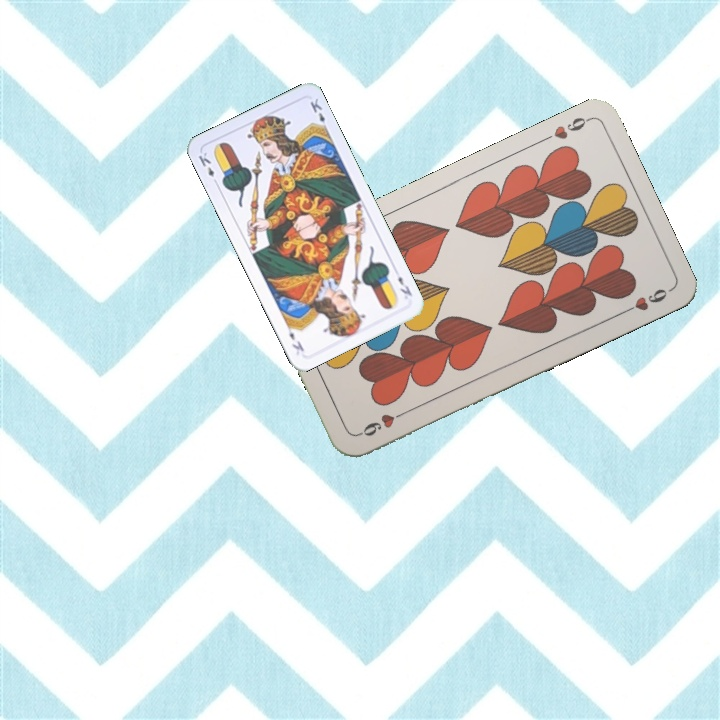EK: (194, 148, 221, 187), (394, 272, 415, 299)
H9: (354, 406, 409, 439), (537, 113, 593, 145)
